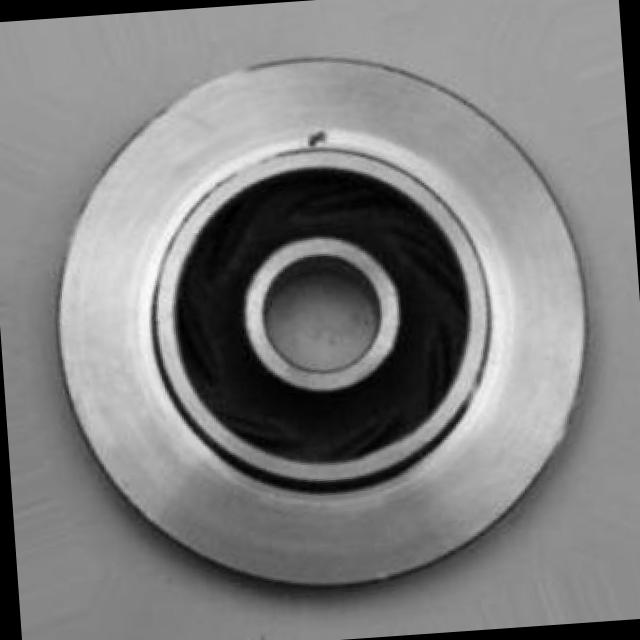Defect: (305, 126, 332, 150)
